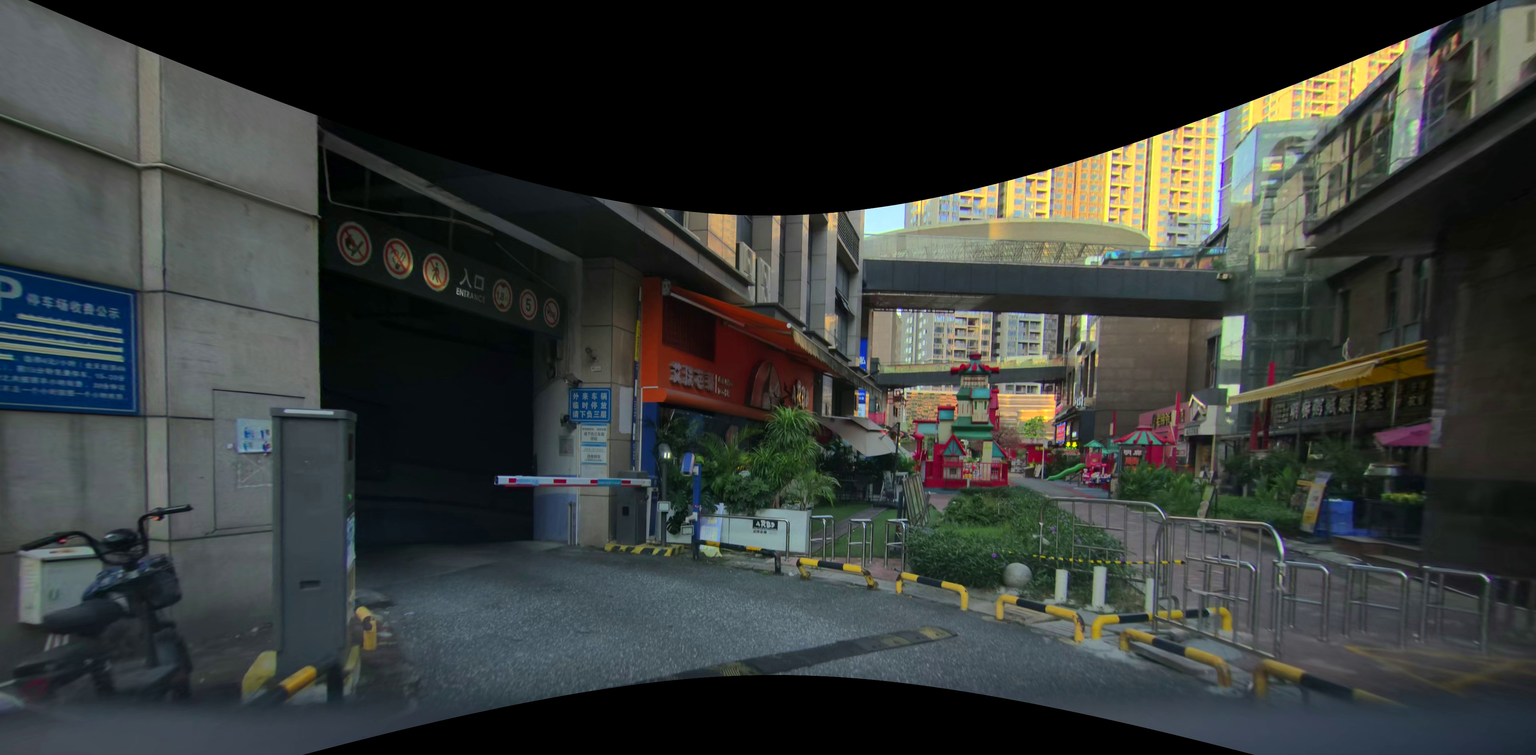1.8m: (494, 291, 511, 304)
5: (522, 295, 533, 312)
ENTRANCE: (456, 288, 486, 304)
tollgates: (493, 475, 651, 488)
停车场收费公示: (25, 292, 121, 321)
入口: (455, 267, 487, 304), (456, 268, 486, 290)
外来车辆临时停放请下负三层: (570, 389, 609, 421)
